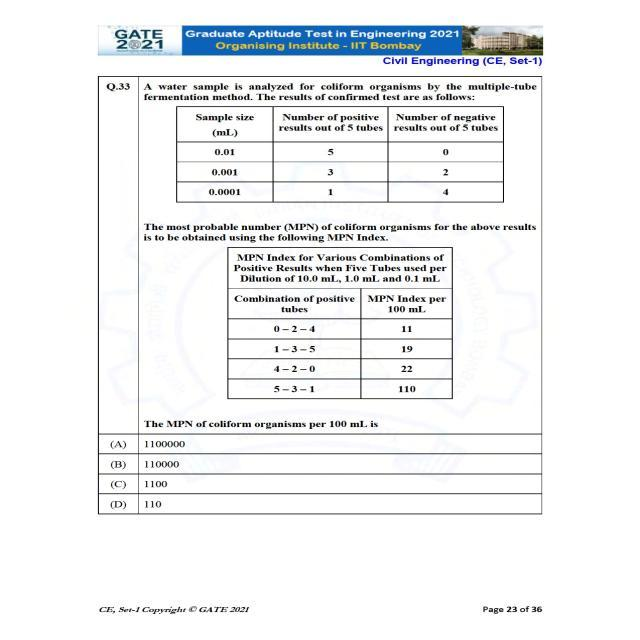Answer_Block: (98, 432, 546, 514)
Question_Answer_Block: (98, 76, 544, 516)
Question_Block: (100, 76, 542, 434)
Question_Paper_Area: (100, 75, 544, 517)
